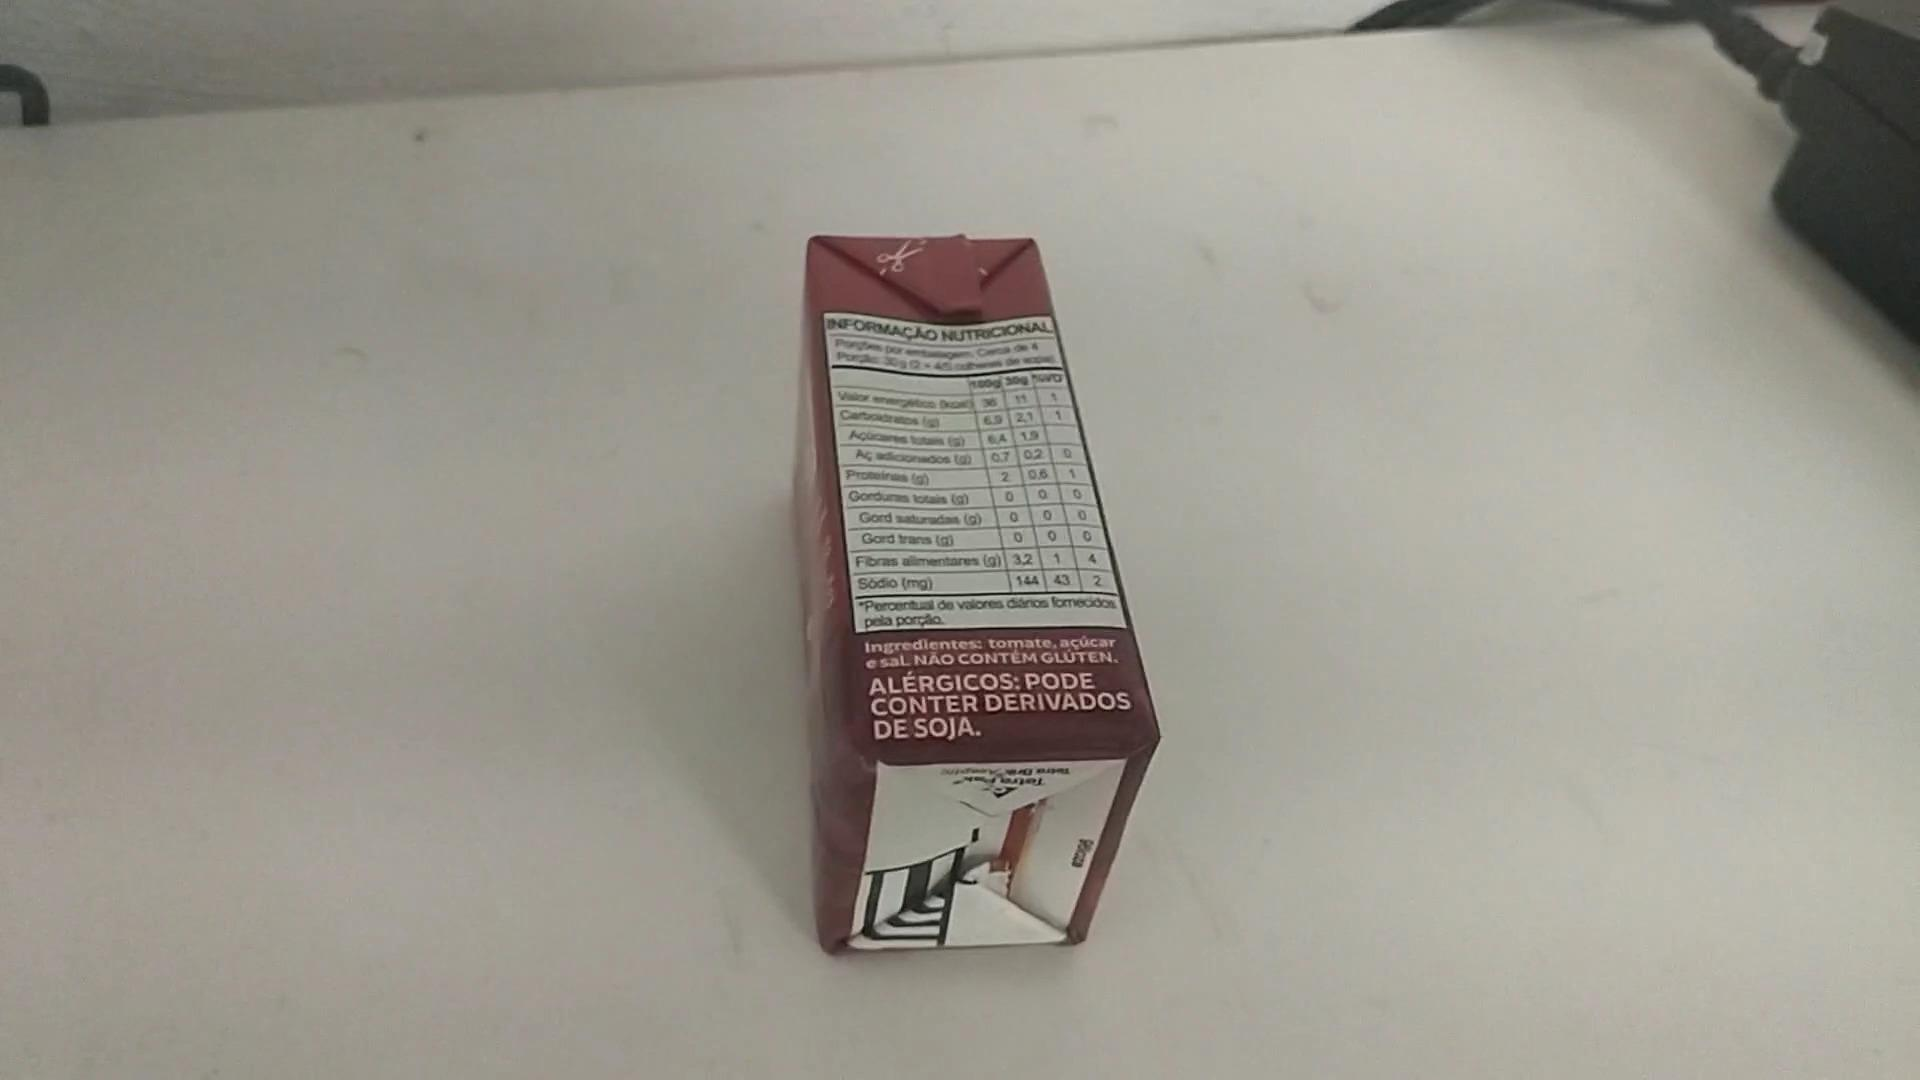tomate: (793, 235, 1156, 961)
